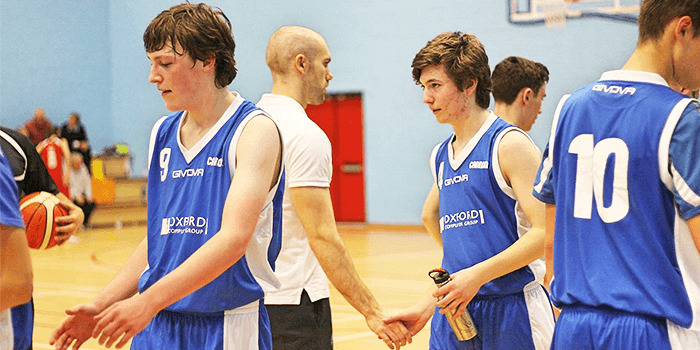ball: (16, 192, 72, 249)
player: (54, 1, 288, 350), (397, 32, 561, 350), (557, 1, 699, 350), (242, 27, 382, 350)
